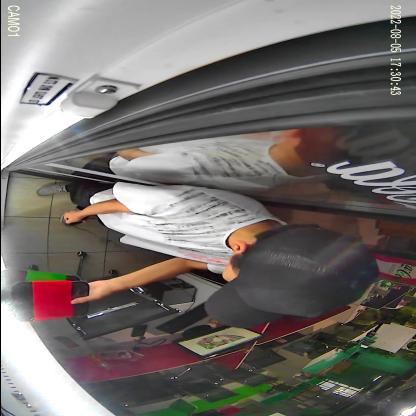green: (0, 269, 80, 304)
red: (10, 280, 88, 323)
